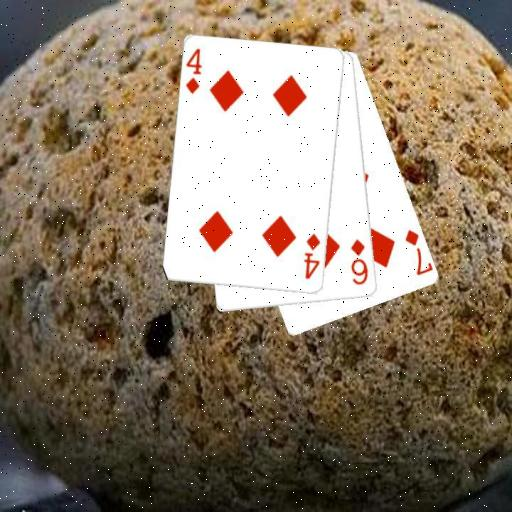4D: (301, 231, 323, 281), (183, 46, 205, 96)
6D: (348, 237, 370, 287)
7D: (402, 226, 434, 277)
